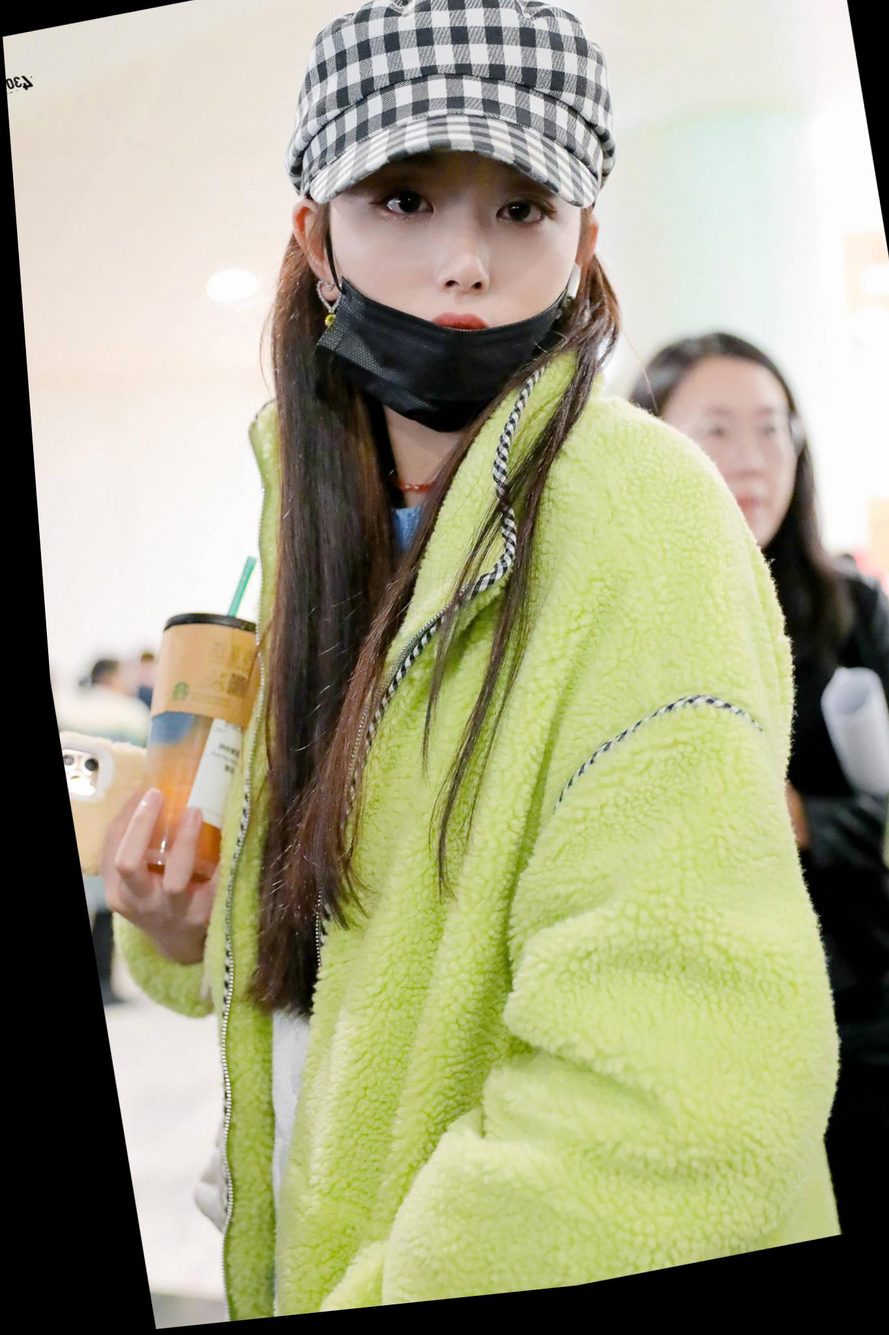NONE: (660, 394, 808, 586)
WRONG: (309, 119, 600, 460)
